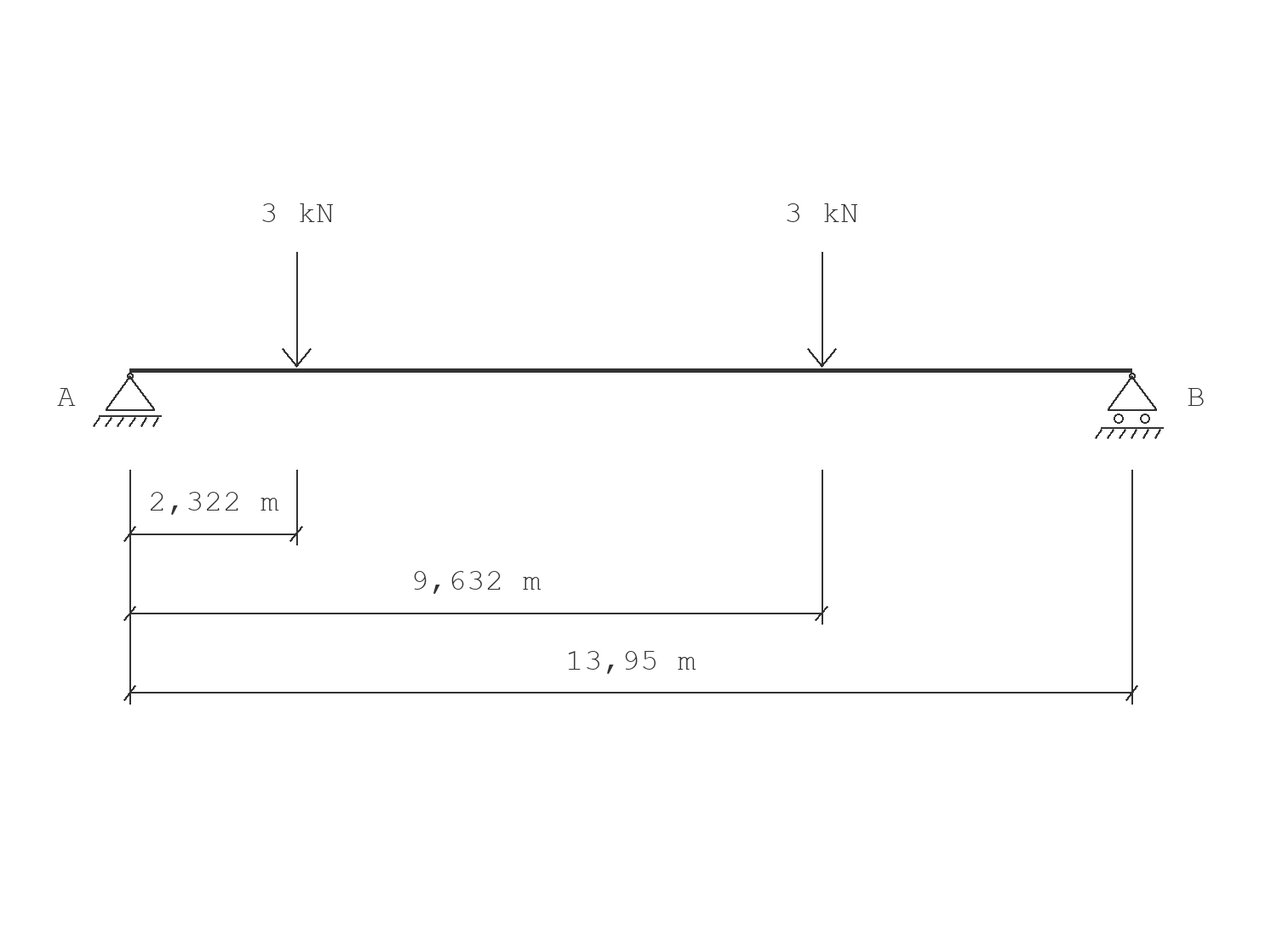pin_support: (93, 373, 162, 427)
point_load: (282, 252, 312, 368), (807, 252, 837, 368)
roller_support: (1095, 373, 1164, 439)
